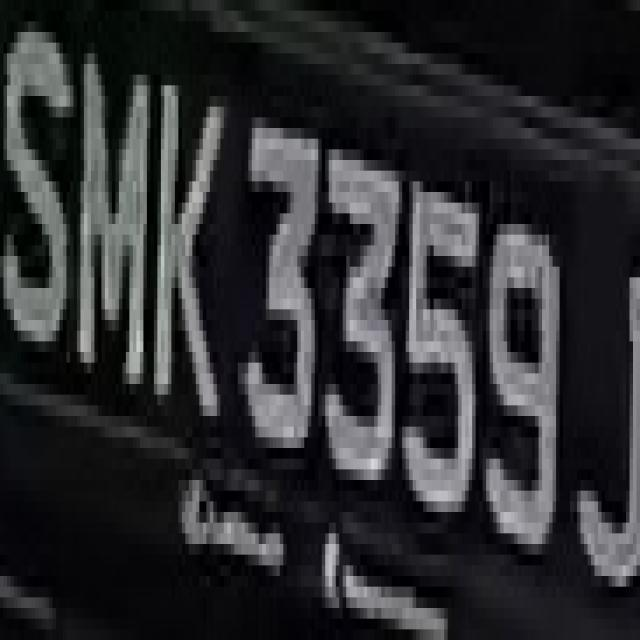3: (318, 96, 399, 523), (238, 107, 318, 469)
5: (395, 139, 490, 533)
9: (493, 181, 567, 555)
J: (563, 224, 640, 608)
K: (147, 42, 224, 426)
M: (80, 53, 154, 406)
S: (4, 11, 80, 384)
